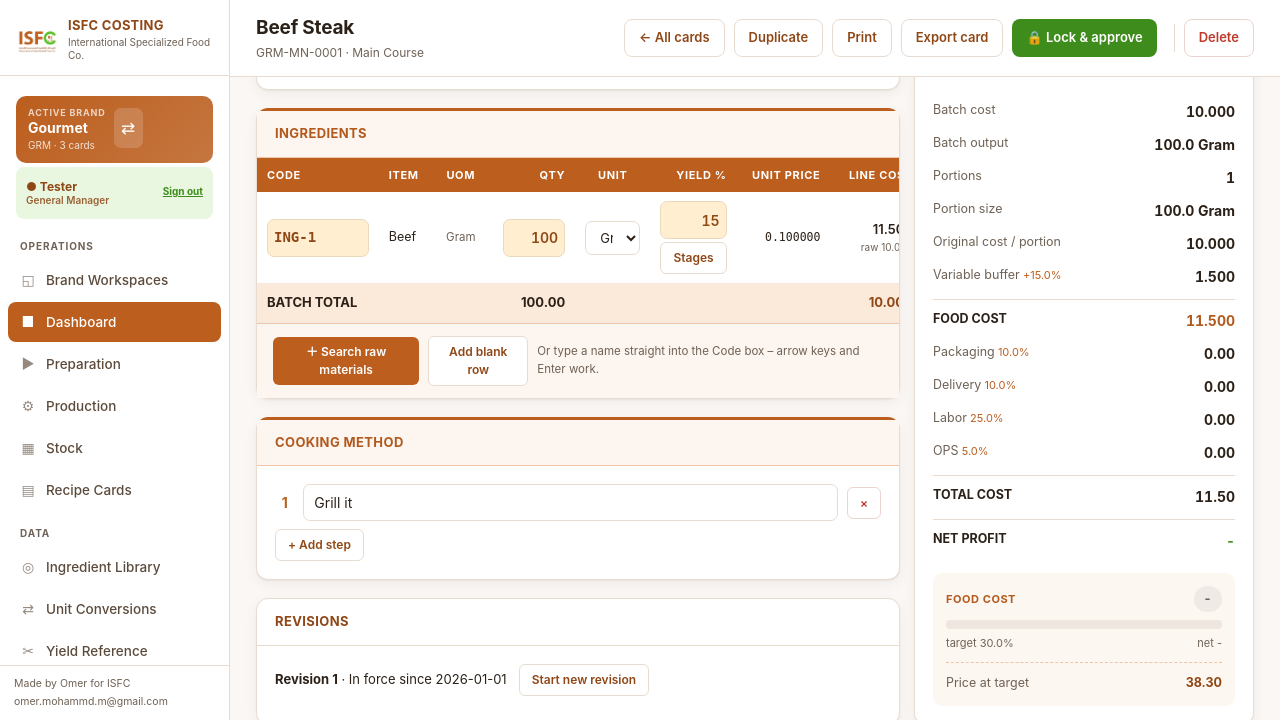
Test: recipe editor (legacy vEdit) › adding lines while the save is still in flight does not crash the editor (print layer built from costed lines only)
(page scrolled)
Check: the number of fields with placeholder "type a name or code" is 1, box [267,219,369,257]
Click the button "Add blank row". click: (478, 361)
box: [428,336,528,386]
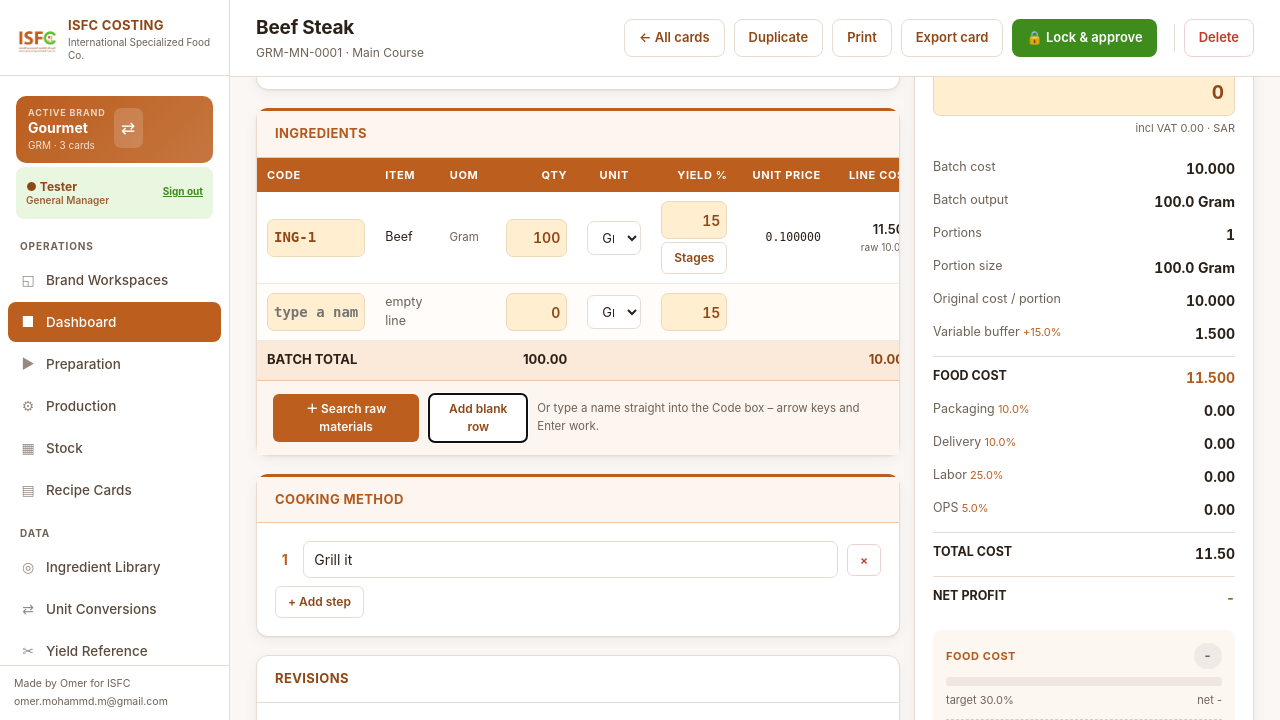
Click the button "Add blank row". click: (478, 418)
box: [428,393,528,443]
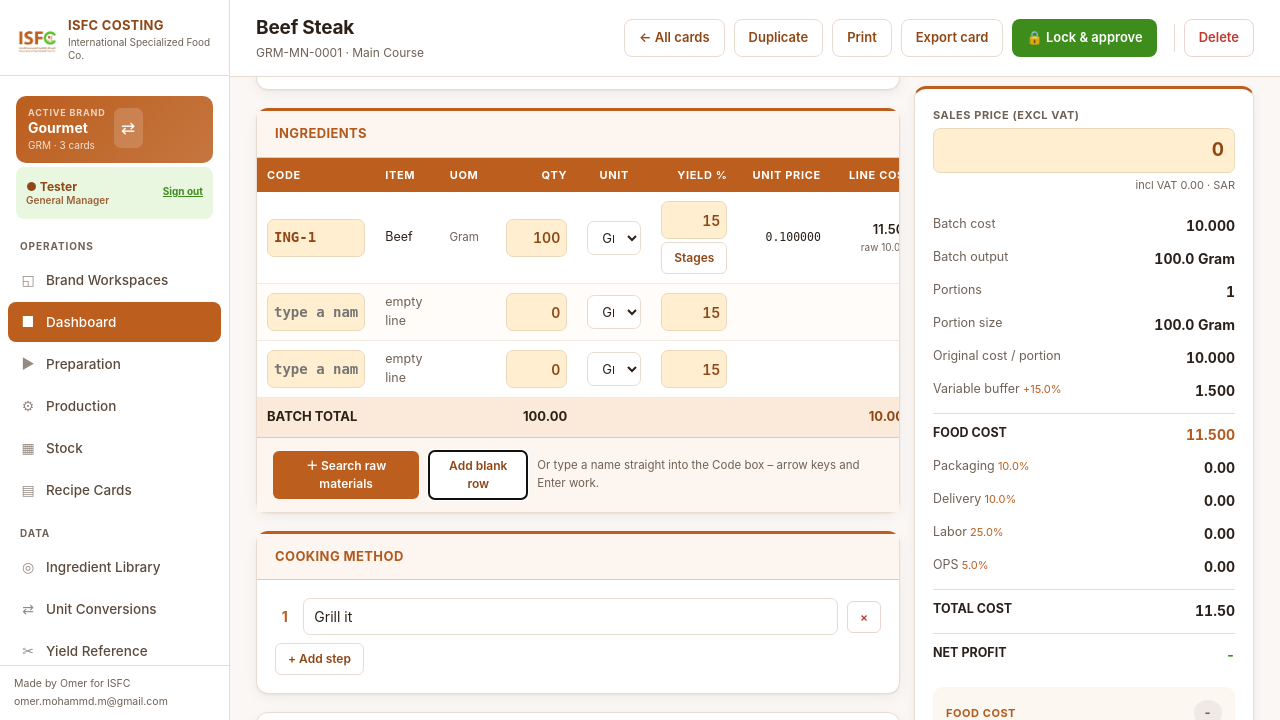
Check: the number of fields with placeholder "type a name or code" is 3, box [267,219,365,257]; [267,293,365,331]; [267,350,365,388]
